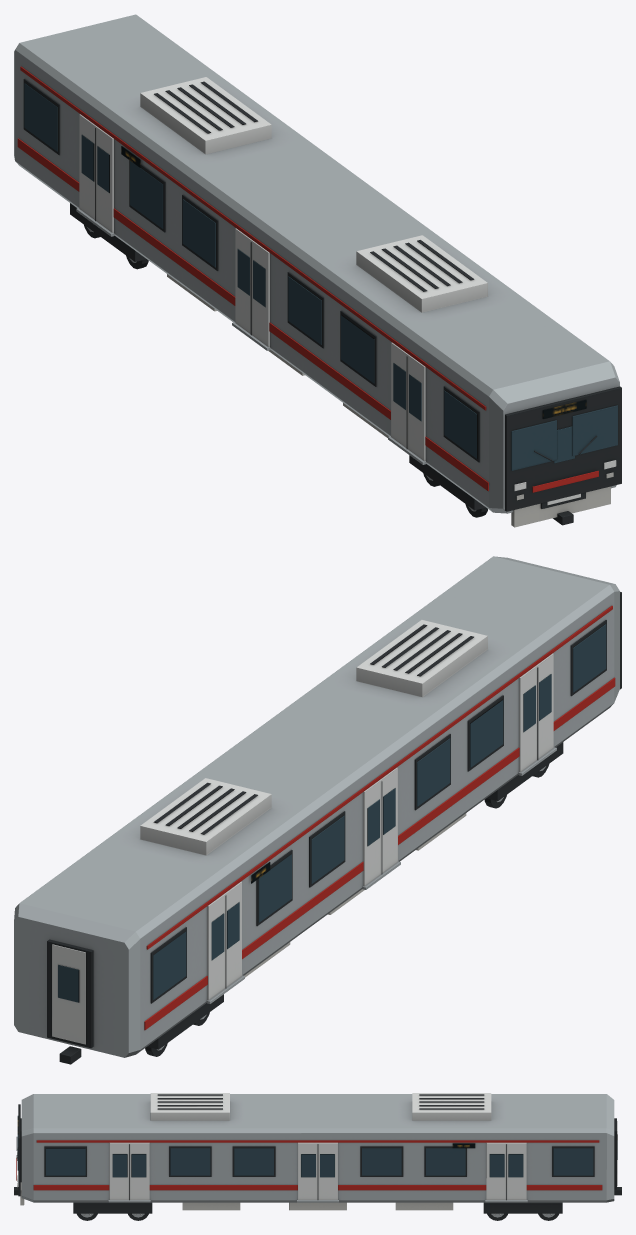
Rendered from regional_trailer.obj.
3 views of the same model, one above another, from view 1: azimuth 30°, elevation 25°; view 2: azimuth 150°, elevation 25°; view 3: azimuth 270°, elevation 25° (orthographic). The views are drawn at different scales.
Parts seen in each view (by area): view 1: regional_trailer; view 2: regional_trailer; view 3: regional_trailer.
Part boxes in pixels (x1=…): regional_trailer: x1=14, y1=14, x2=621, y2=527; regional_trailer: x1=14, y1=556, x2=621, y2=1064; regional_trailer: x1=14, y1=1093, x2=621, y2=1220.
Size of the model in its own units: 3.08 by 3.95 by 20.
1 material, 1 textured.
